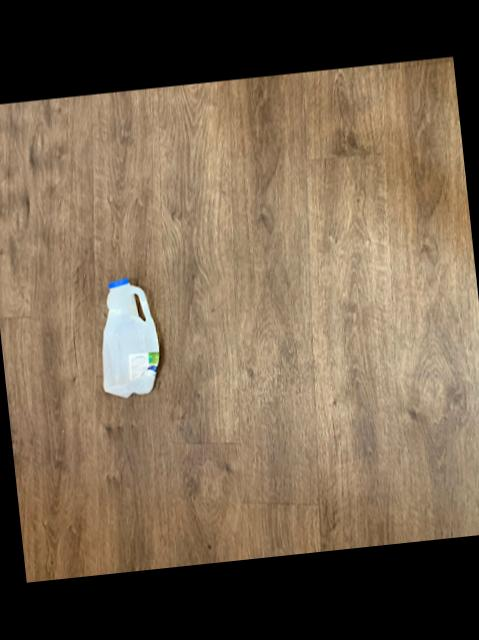plastic: (102, 277, 159, 396)
